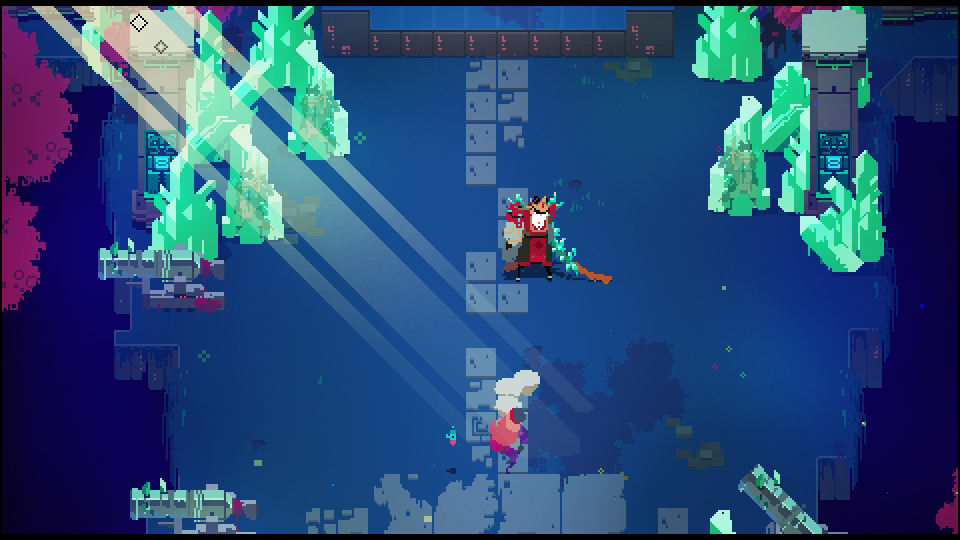hanged_man: (501, 188, 585, 290)
player: (485, 403, 527, 456)
